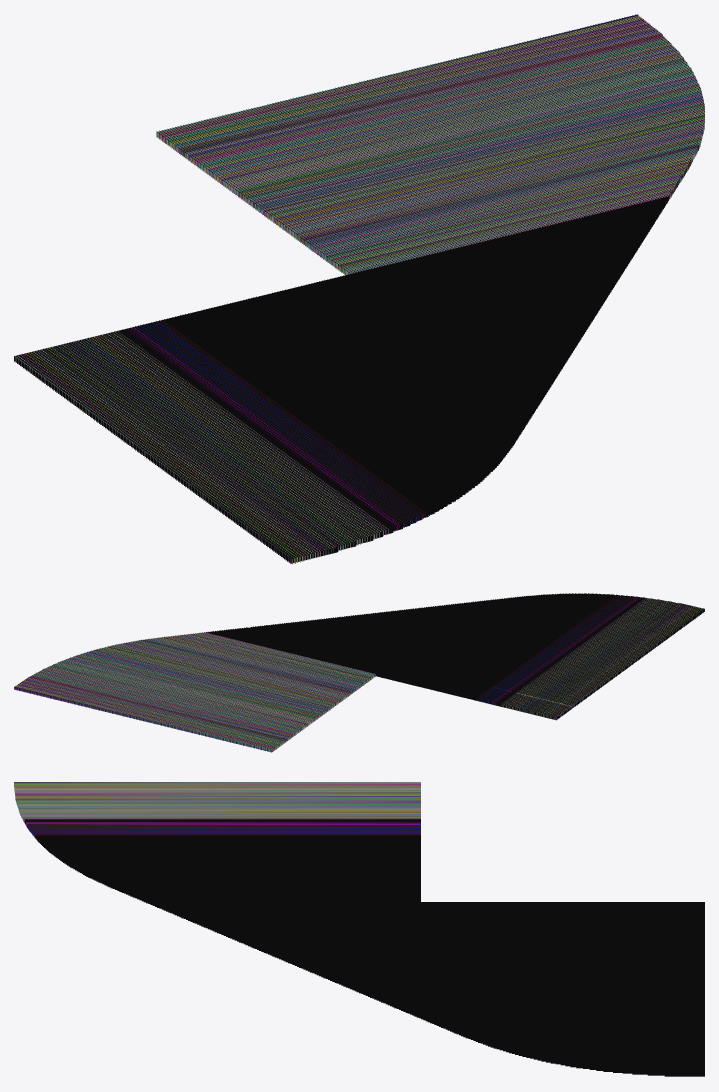
The model's file is Grass_Corner.gltf.
3 renders of one model, top to bottom at view 1: azimuth 30°, elevation 25°; view 2: azimuth 150°, elevation 25°; view 3: azimuth 270°, elevation 25°, orthographic. The views are drawn at different scales.
Visible parts, largest first — view 1: Grass_Corner; view 2: Grass_Corner; view 3: Grass_Corner.
Part boxes in pixels (box(x1,y1,x2,y2)): Grass_Corner: box(14, 14, 704, 564); Grass_Corner: box(14, 593, 704, 752); Grass_Corner: box(14, 782, 704, 1076).
Bounding box in the file's own units: 12.46 × 0.08 × 12.46.
